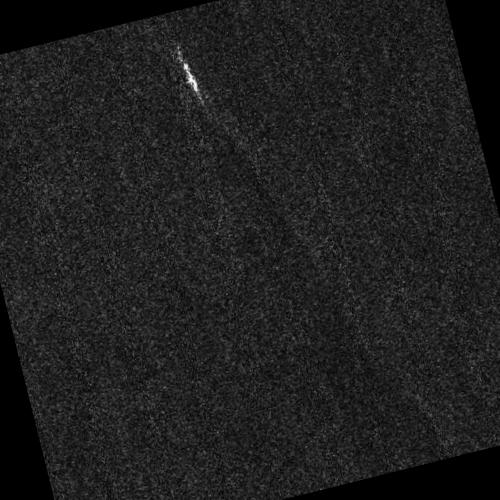ship: (182, 61, 199, 96)
